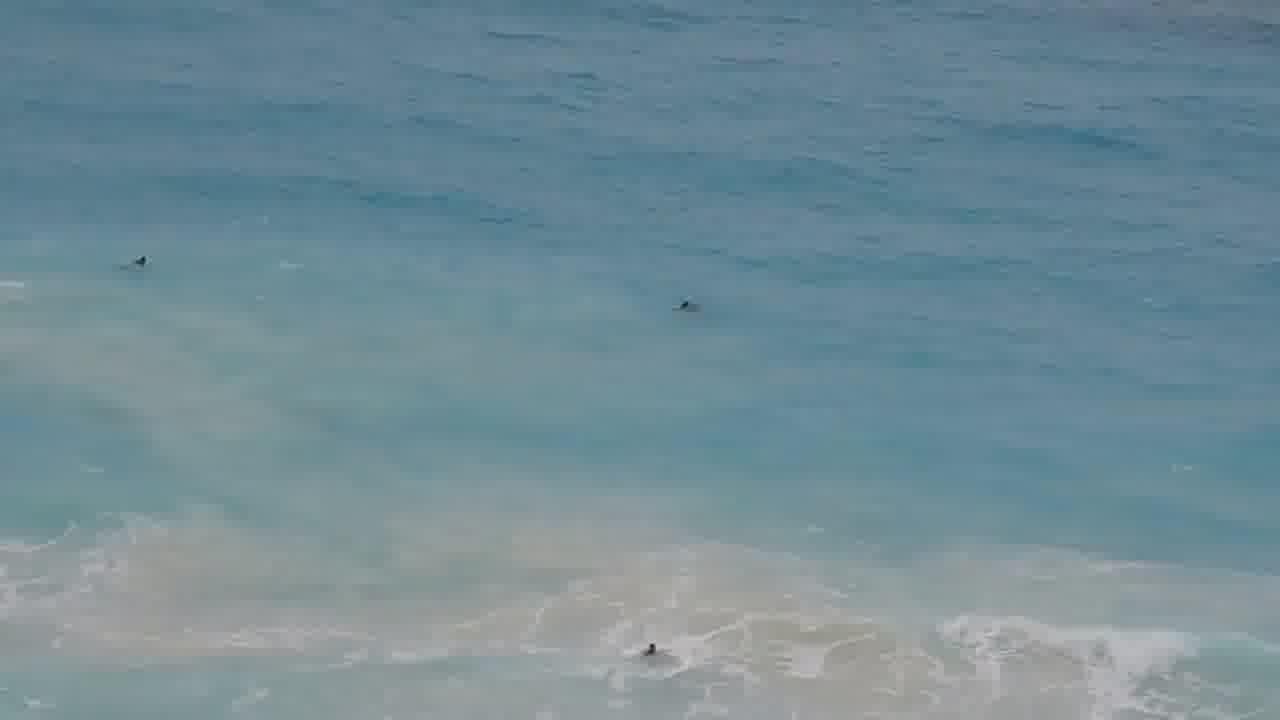human: (667, 284, 704, 324), (628, 638, 677, 663), (135, 244, 161, 283)
